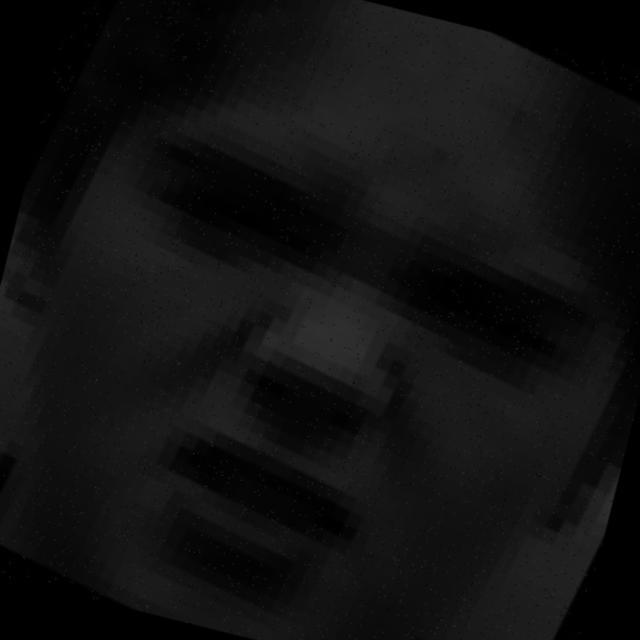Disgust: (35, 49, 596, 640)
